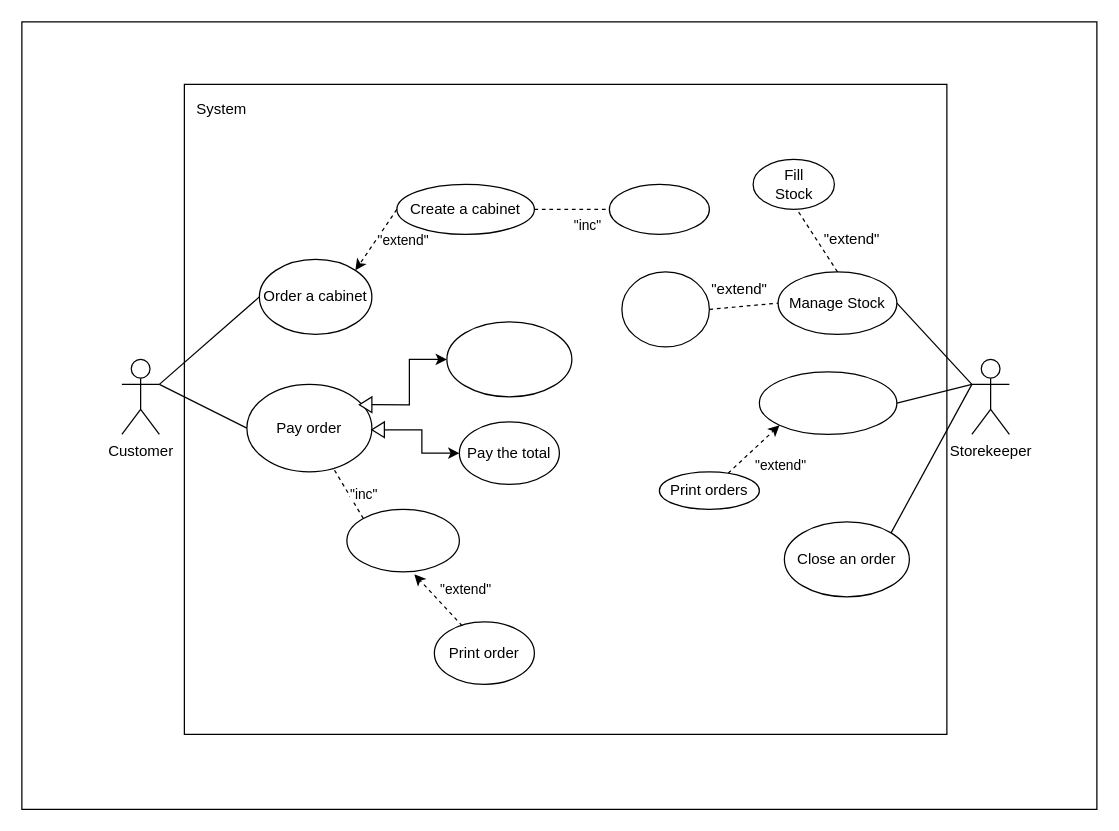
Some shapes in this 1119 by 831 pixel diagram are drawn without their labels. The shapes that lost their labels are listed below. From the top down, each one's box as (x1, y1, x2, y2) in pixels, then its label:
(608, 183, 709, 234): Check quantity
(621, 271, 709, 347): Update Price
(446, 321, 572, 397): Pay the down payement
(758, 371, 897, 434): Consult the orders
(346, 508, 459, 572): Get a receipt
